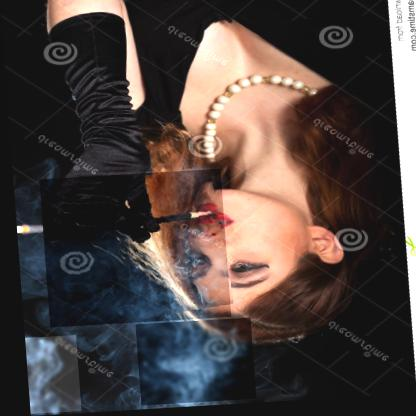smoke: (37, 171, 226, 328), (130, 320, 250, 407), (20, 336, 75, 414)
